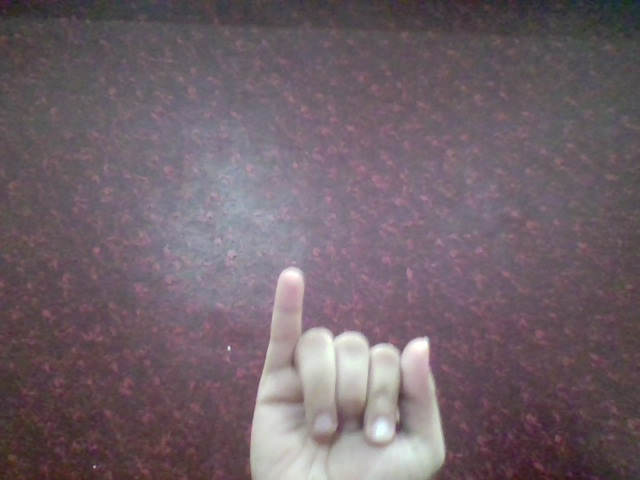i: (239, 260, 458, 480)
